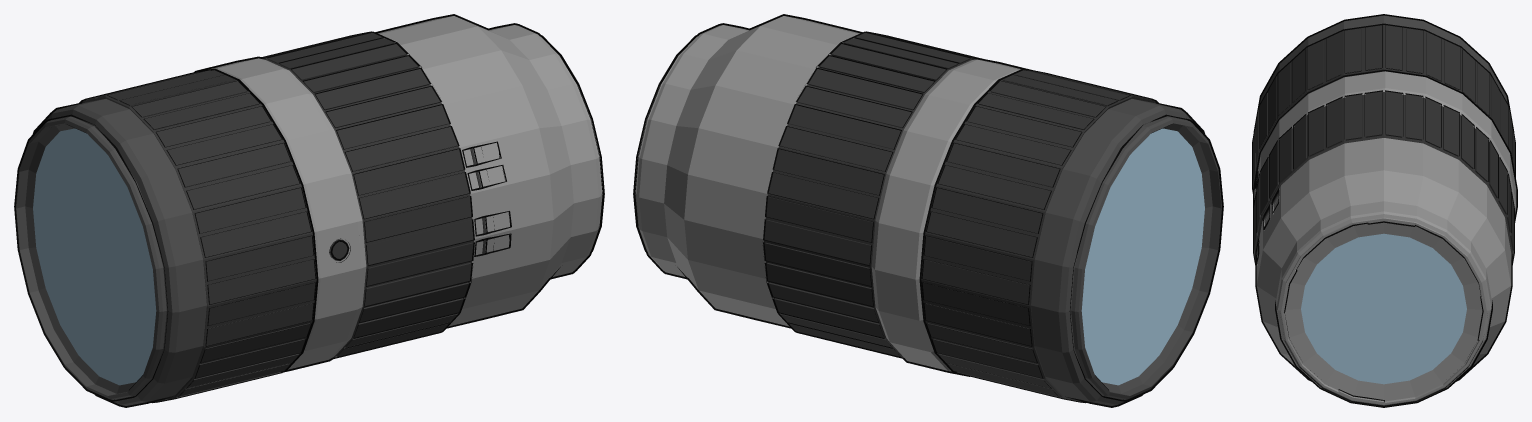
Rendered from TelePhotoLens.fbx.
3 views of the same model, side by side, from view 1: azimuth 30°, elevation 25°; view 2: azimuth 150°, elevation 25°; view 3: azimuth 270°, elevation 25° (orthographic). The views are drawn at different scales.
Parts seen in each view (by area): view 1: Cylinder; view 2: Cylinder; view 3: Cylinder.
Boxes of the visible parts, x1,y1,x2,y2 form: Cylinder: [14, 14, 604, 407]; Cylinder: [633, 14, 1223, 407]; Cylinder: [1252, 14, 1517, 407].
Bounding box in the file's own units: 342 × 206 × 206.
